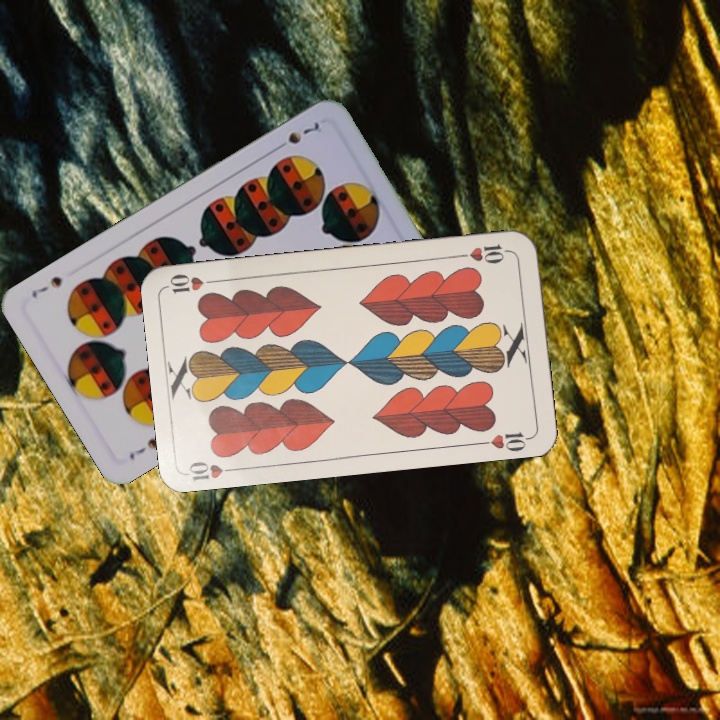H10: (453, 240, 512, 266), (184, 457, 243, 483)
S7: (271, 117, 322, 153), (125, 434, 162, 463)
